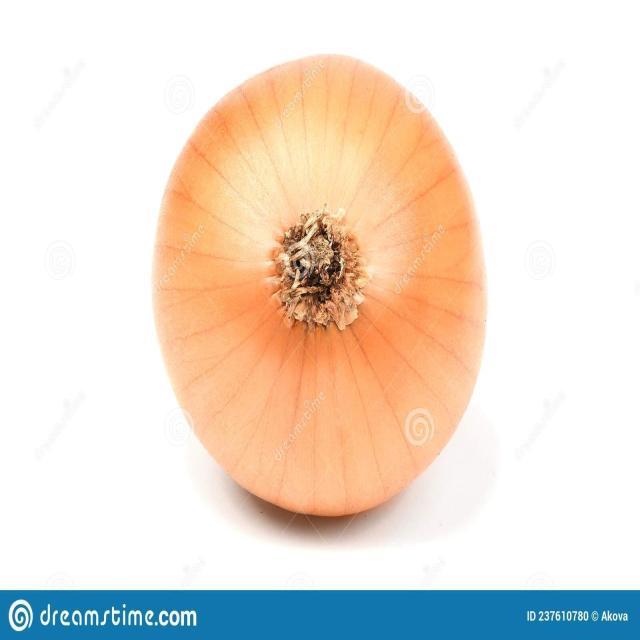Onion: (153, 54, 486, 520)
